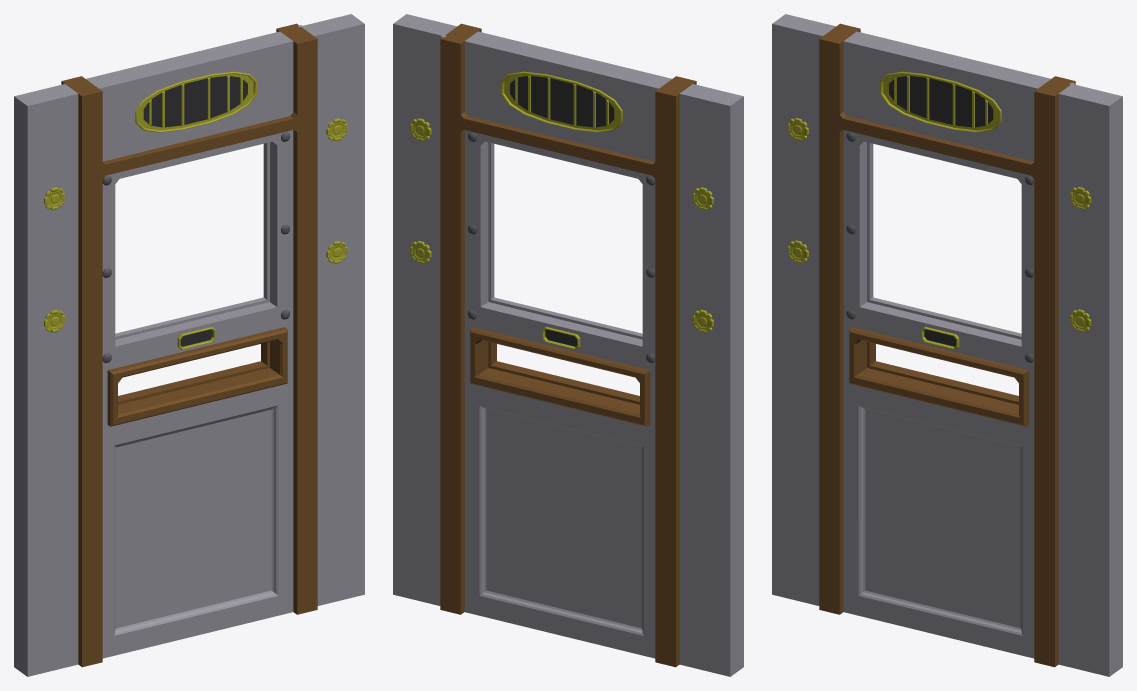
File: Door2.fbx
3 views of the same model, side by side, from view 1: azimuth 30°, elevation 25°; view 2: azimuth 150°, elevation 25°; view 3: azimuth 330°, elevation 25° (orthographic).
Visible parts, largest first — view 1: polySurface91; view 2: polySurface91; view 3: polySurface91.
Part boxes in pixels (<box>): polySurface91: <box>14,14,364,676</box>; polySurface91: <box>393,14,743,676</box>; polySurface91: <box>772,14,1122,676</box>.
Bounding box in the file's own units: 1.63 × 2.63 × 0.1781.
